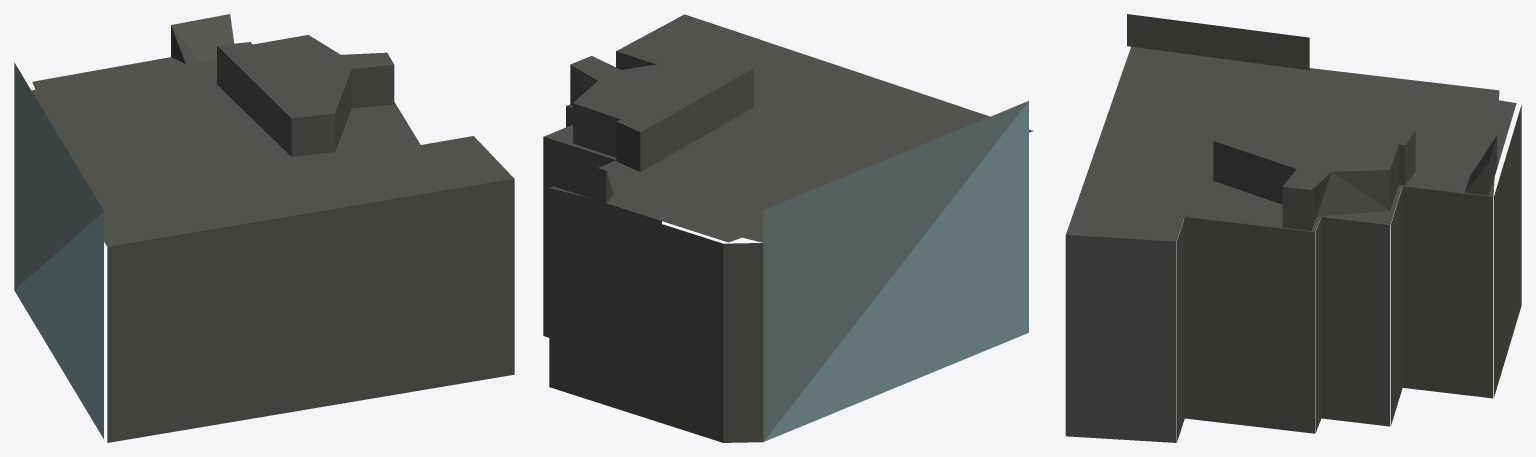
3 renders of one model, left to right at view 1: azimuth 30°, elevation 25°; view 2: azimuth 150°, elevation 25°; view 3: azimuth 270°, elevation 25°, orthographic. The views are drawn at different scales.
Visible parts, largest first — view 1: lod2; view 2: lod2; view 3: lod2.
Part boxes in pixels (bbox=[...]): lod2: bbox=[14, 14, 514, 442]; lod2: bbox=[543, 14, 1032, 442]; lod2: bbox=[1065, 14, 1521, 442].
Bounding box in the file's own units: 25.98 × 15.03 × 25.64.
